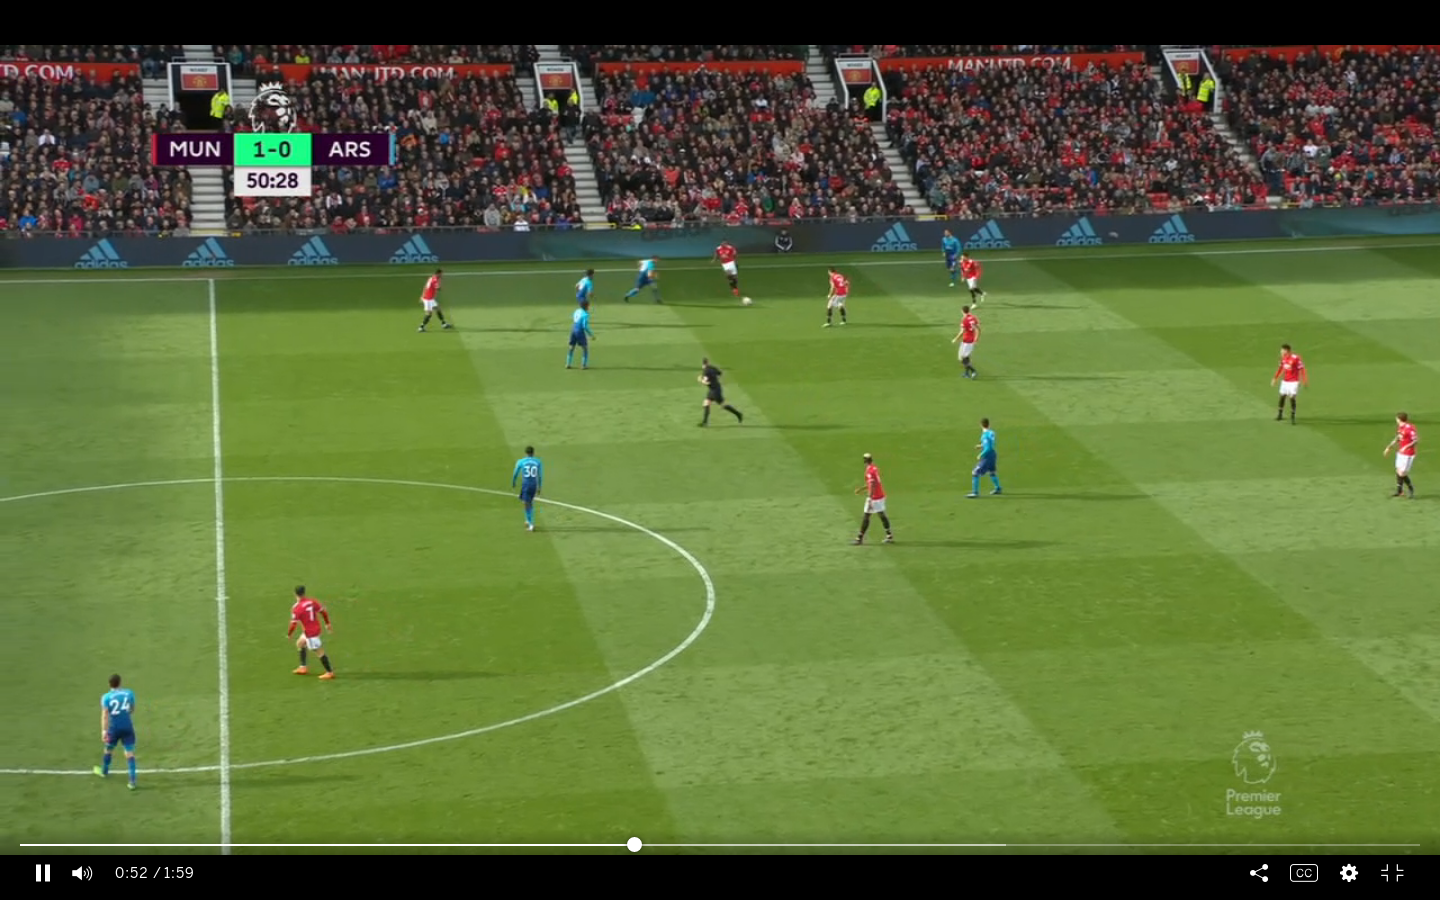referee: (687, 352, 747, 439)
soccer player: (95, 672, 147, 791), (853, 443, 905, 548), (284, 582, 339, 676), (962, 414, 1008, 502), (513, 443, 550, 537), (1387, 409, 1424, 502), (410, 269, 458, 337), (1270, 343, 1310, 425), (950, 305, 984, 379), (953, 256, 998, 308), (818, 260, 850, 332), (628, 249, 664, 308), (710, 235, 744, 292), (568, 300, 595, 368), (572, 260, 598, 316), (941, 226, 959, 280)
soccerball: (736, 288, 759, 309)
